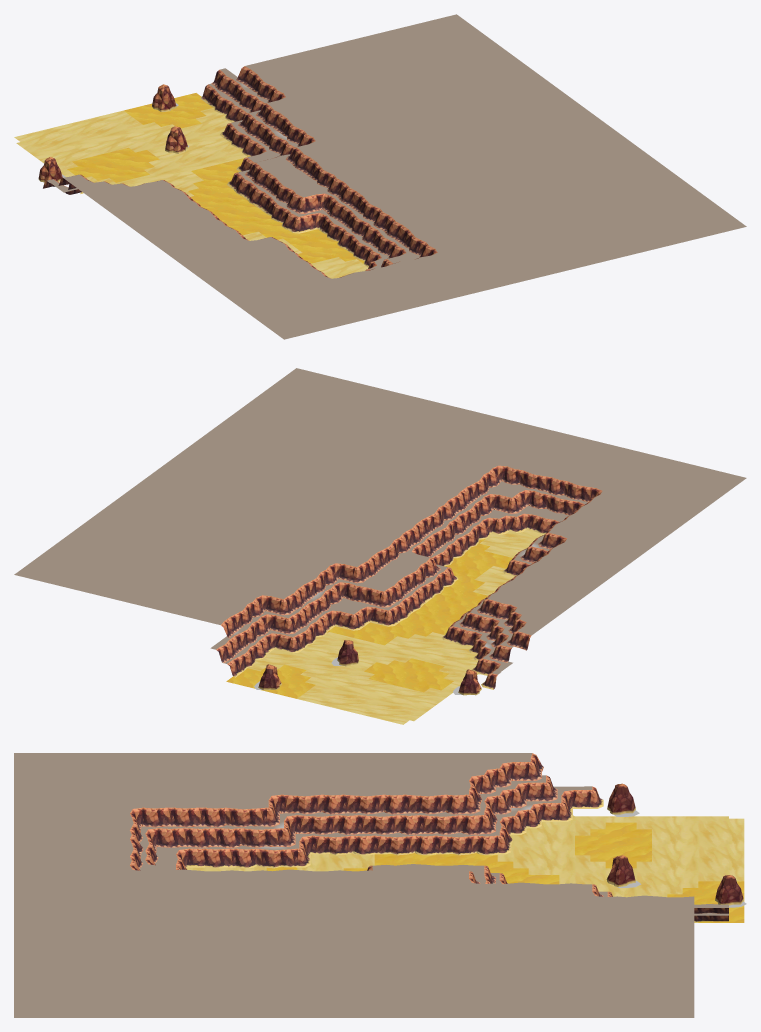
3 views of the same model, one above another, from view 1: azimuth 30°, elevation 25°; view 2: azimuth 150°, elevation 25°; view 3: azimuth 270°, elevation 25° (orthographic). The views are drawn at different scales.
Parts seen in each view (by area): view 1: _0_0_node, _1_0_node, _4_0_node, _3_0_node, _5_0_node-UV1, _2_0_node; view 2: _0_0_node, _1_0_node, _4_0_node, _3_0_node, _5_0_node-UV1, _2_0_node; view 3: _0_0_node, _1_0_node, _3_0_node, _4_0_node, _5_0_node-UV1, _2_0_node.
Boxes of the visible parts, <box> form: _0_0_node: <box>47,14,746,339</box>; _1_0_node: <box>43,66,437,278</box>; _4_0_node: <box>67,93,364,263</box>; _3_0_node: <box>14,113,365,278</box>; _5_0_node-UV1: <box>55,107,368,271</box>; _2_0_node: <box>38,84,187,182</box>; _0_0_node: <box>14,368,746,674</box>; _1_0_node: <box>216,465,602,689</box>; _4_0_node: <box>226,539,512,698</box>; _3_0_node: <box>255,529,544,724</box>; _5_0_node-UV1: <box>247,534,517,701</box>; _2_0_node: <box>258,640,481,695</box>; _0_0_node: <box>14,753,728,1017</box>; _1_0_node: <box>130,753,728,921</box>; _3_0_node: <box>187,815,744,897</box>; _4_0_node: <box>266,822,744,922</box>; _5_0_node-UV1: <box>251,816,744,922</box>; _2_0_node: <box>606,783,743,905</box>.
Size of the model in its own units: 732 by 856 by 54.
